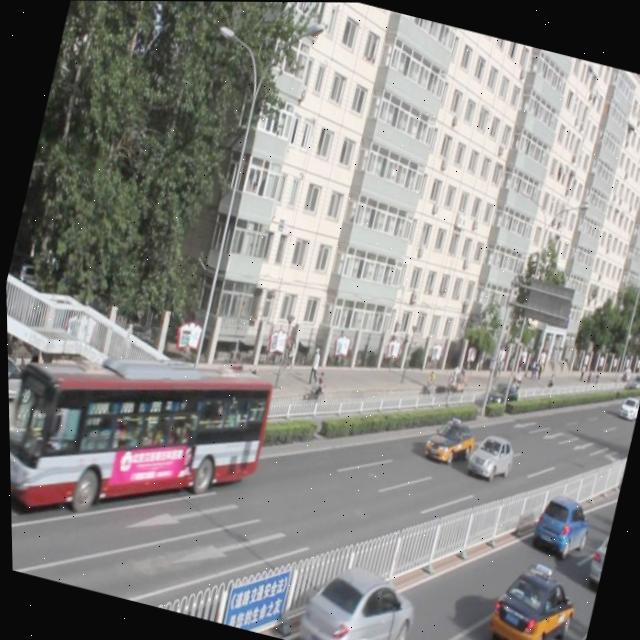car: (289, 552, 418, 640), (480, 554, 577, 640), (525, 487, 591, 559), (419, 410, 476, 468), (296, 618, 437, 640), (461, 427, 515, 483), (579, 522, 609, 586), (479, 375, 517, 412), (546, 610, 588, 640)
van: (6, 322, 274, 560)
